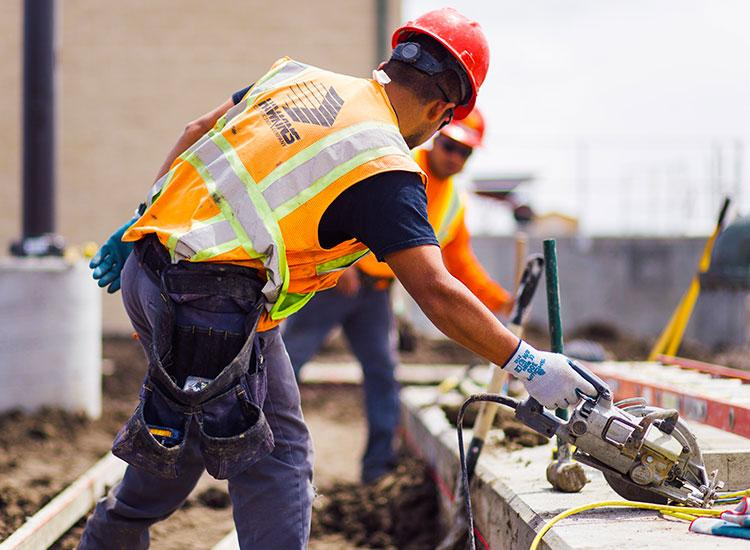helmet: (391, 9, 493, 119), (439, 106, 490, 154)
